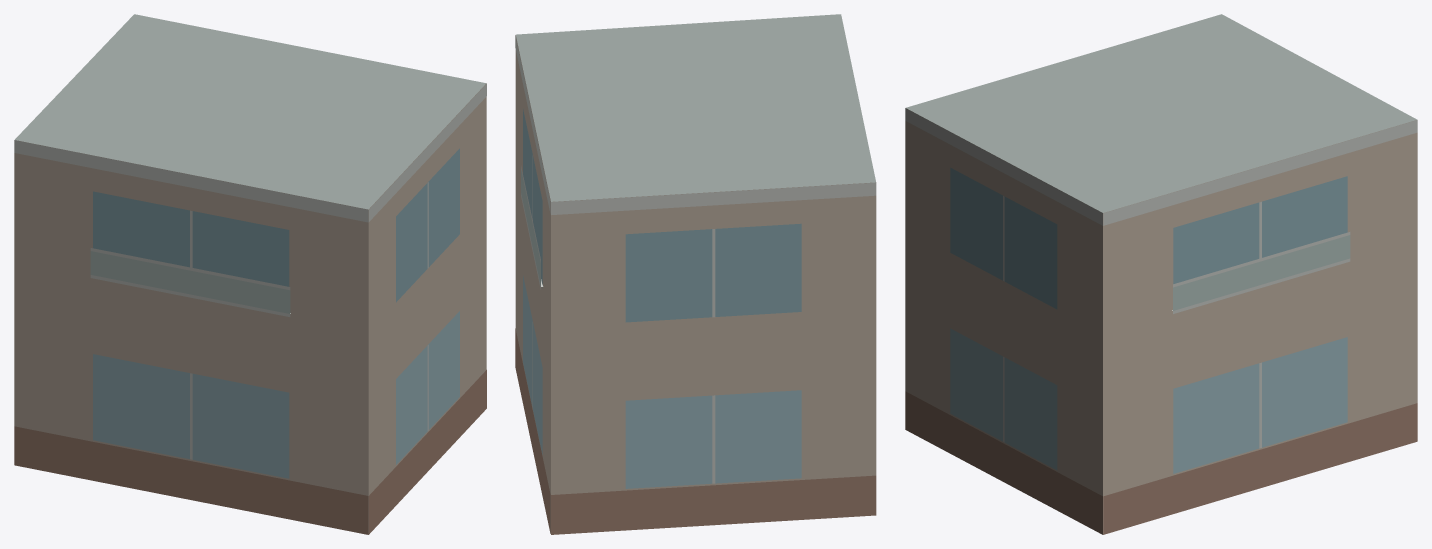
The model's file is survey-upis-32937493.glb.
The picture shows the model from 3 angles, left to right: view 1: azimuth 30°, elevation 25°; view 2: azimuth 150°, elevation 25°; view 3: azimuth 270°, elevation 25°; orthographic projection. The views are drawn at different scales.
Visible parts, largest first — view 1: survey-upis-32937493.tmp; view 2: survey-upis-32937493.tmp; view 3: survey-upis-32937493.tmp.
Part boxes in pixels (bbox=[...]): survey-upis-32937493.tmp: bbox=[14, 14, 486, 534]; survey-upis-32937493.tmp: bbox=[515, 14, 876, 534]; survey-upis-32937493.tmp: bbox=[905, 14, 1417, 534].
Bounding box in the file's own units: 8.1 × 6.1 × 8.81.
